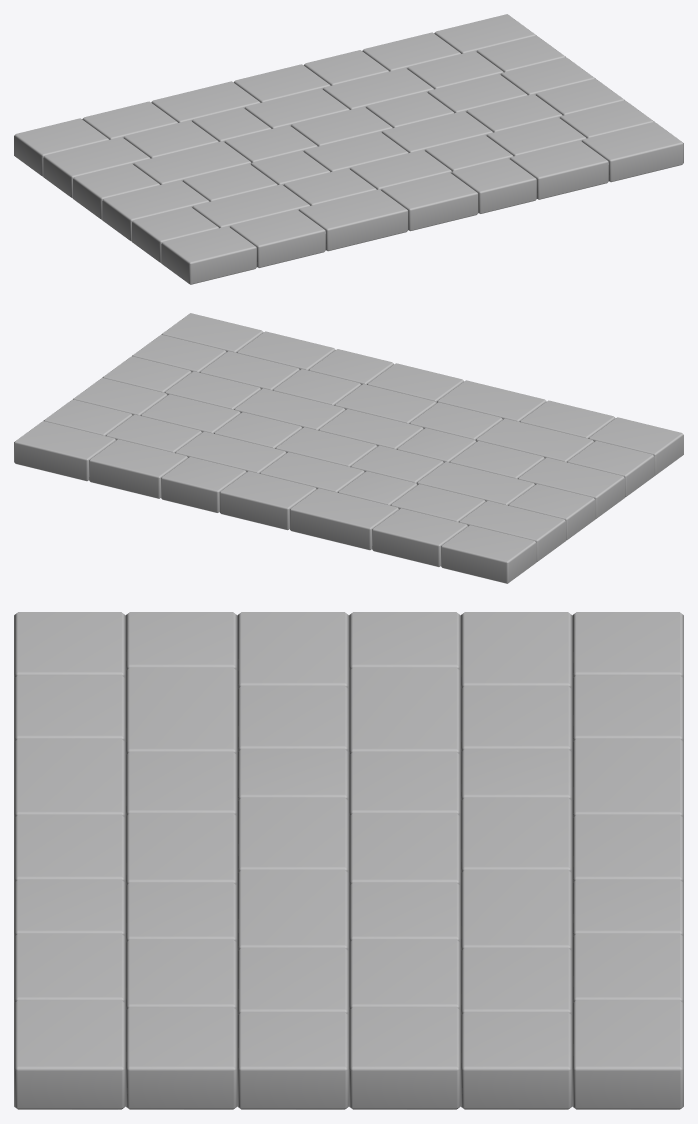
File: City_2_Base_1.glb
3 renders of one model, top to bottom at view 1: azimuth 30°, elevation 25°; view 2: azimuth 150°, elevation 25°; view 3: azimuth 270°, elevation 25°, orthographic. The views are drawn at different scales.
Parts seen in each view (by area): view 1: City_2_Base_1; view 2: City_2_Base_1; view 3: City_2_Base_1.
Part boxes in pixels (x1=…): City_2_Base_1: x1=14, y1=14, x2=683, y2=284; City_2_Base_1: x1=14, y1=313, x2=683, y2=583; City_2_Base_1: x1=14, y1=612, x2=683, y2=1109.
Bounding box in the file's own units: 14.12 × 0.6294 × 8.74.
Materials: 1 (1 with a texture image).
